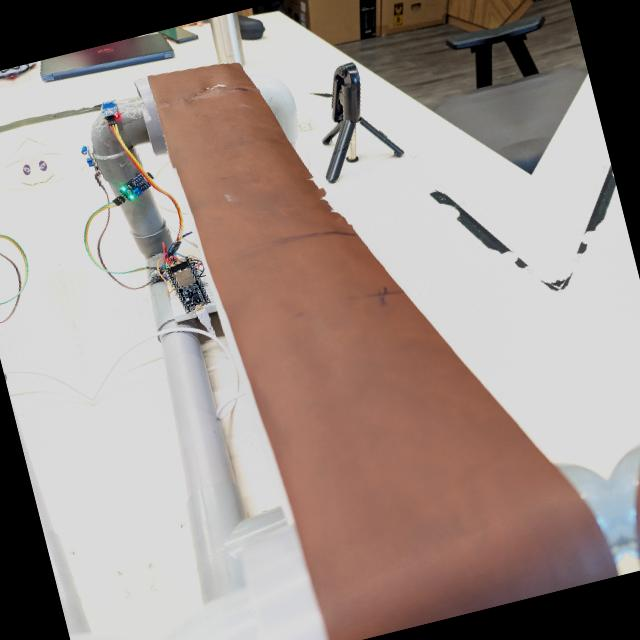edge_damage: (295, 154, 359, 241)
joint_damage: (193, 64, 238, 106)
